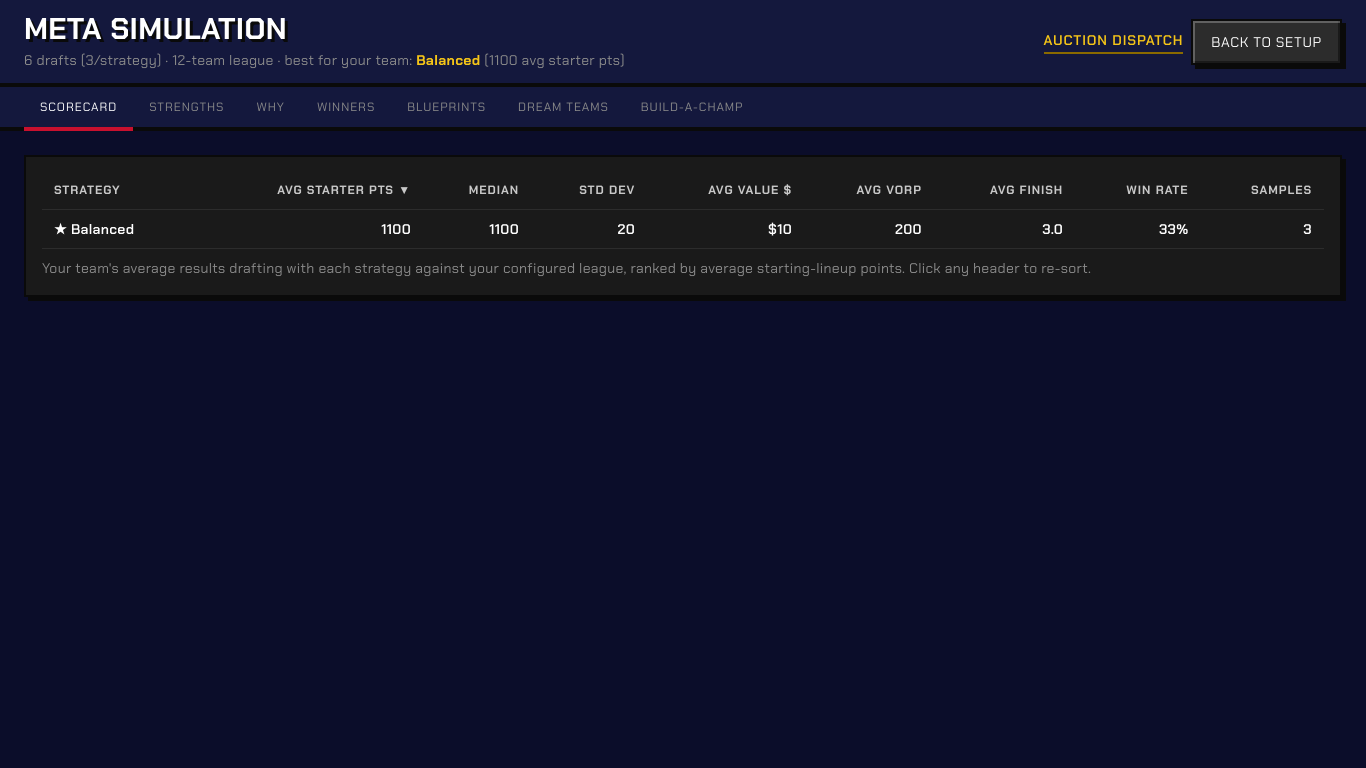
Test case: MetaSimulationReport — Winners & Points tabs › Dream Teams tab renders an ideal team per top strategy
Step 1. Click the button "Dream Teams" → (563, 109), box 502,87 -> 625,131
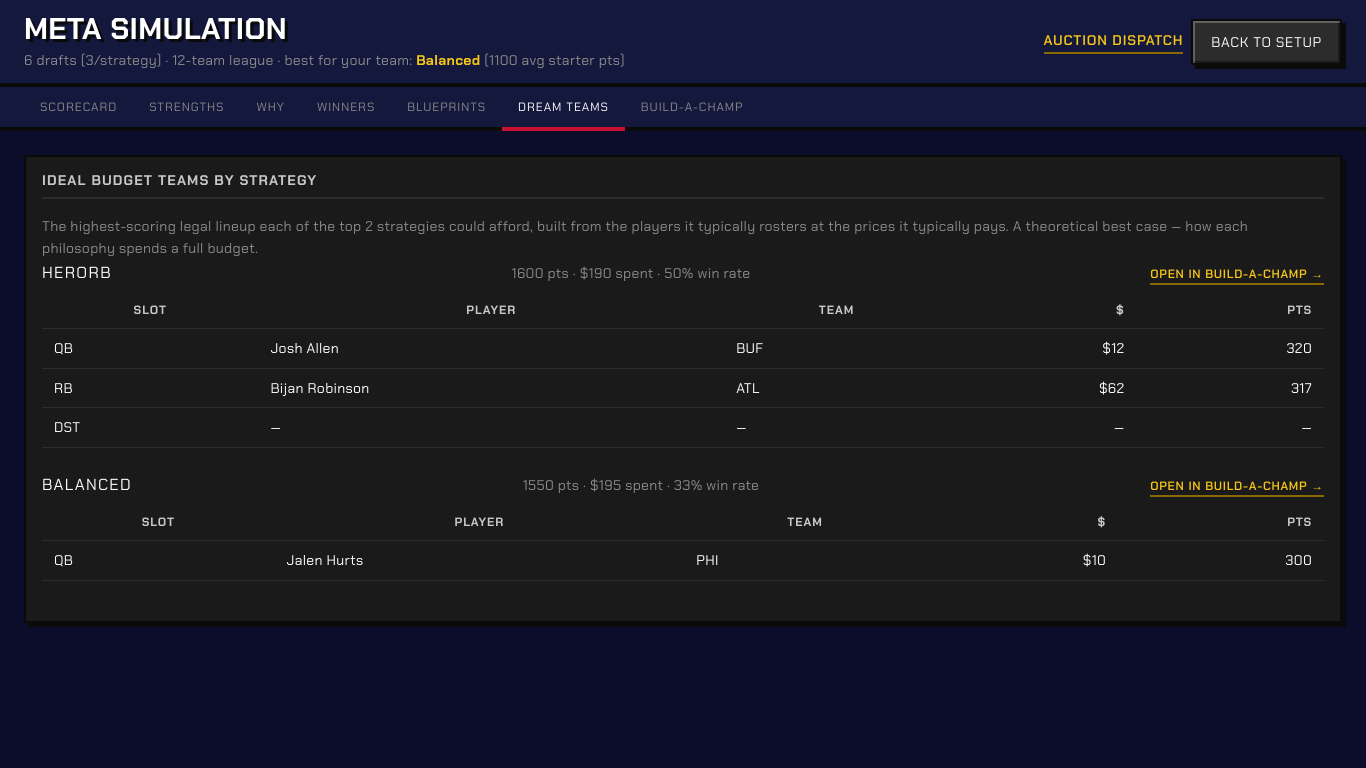
Now the heading "Ideal budget teams by strategy" is shown, box 42,173 -> 1324,199
Now the text "Jalen Hurts" is shown, box 275,541 -> 684,580
Now the 1st text "—" is shown, box 258,408 -> 724,447
